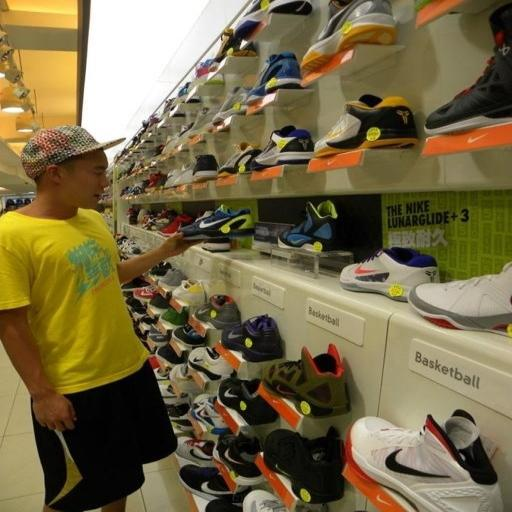shoe: (346, 409, 504, 512), (425, 3, 512, 135), (409, 262, 512, 336), (301, 0, 397, 71), (314, 94, 418, 157), (262, 344, 350, 418), (263, 426, 344, 504), (340, 248, 439, 302), (179, 464, 250, 510), (278, 200, 339, 252), (234, 0, 312, 39), (246, 52, 302, 106), (249, 125, 314, 171), (221, 314, 283, 362), (218, 377, 278, 426), (213, 432, 265, 486), (179, 205, 254, 239), (210, 28, 257, 69), (148, 210, 173, 278), (187, 346, 233, 381), (194, 295, 241, 329), (191, 394, 230, 434), (218, 142, 261, 177), (212, 86, 251, 124), (242, 489, 297, 512), (175, 439, 215, 467), (155, 342, 185, 378), (169, 362, 201, 394), (187, 106, 218, 138), (164, 399, 194, 432), (172, 279, 207, 306), (171, 324, 206, 349), (158, 214, 194, 237), (159, 384, 190, 407), (193, 155, 218, 182), (158, 268, 187, 289), (160, 307, 188, 328), (204, 498, 245, 512), (116, 237, 143, 258), (147, 325, 170, 348), (200, 237, 231, 253), (172, 164, 194, 186), (148, 294, 169, 314), (133, 286, 159, 302), (121, 278, 148, 292), (153, 367, 170, 383), (414, 0, 434, 11)
